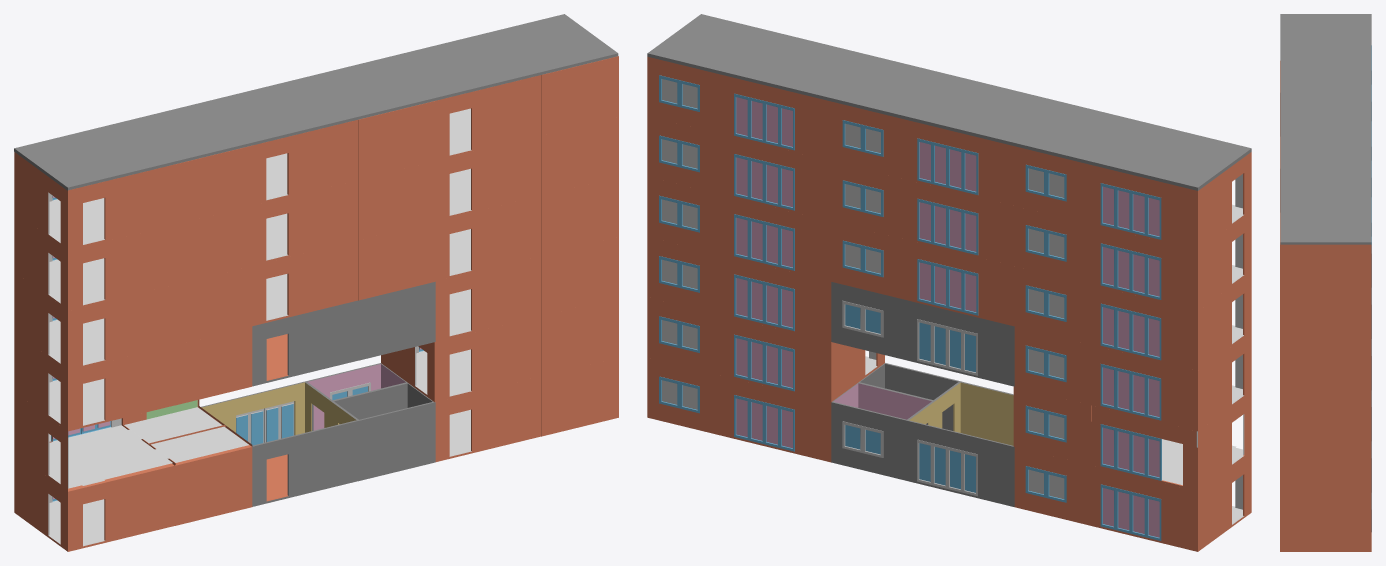
The model's file is ApartmentBuilding_Our.fbx.
3 views of the same model, side by side, from view 1: azimuth 30°, elevation 25°; view 2: azimuth 150°, elevation 25°; view 3: azimuth 270°, elevation 25° (orthographic). The views are drawn at different scales.
Visible parts, largest first — view 1: ReunitedFlat_3.001; view 2: ReunitedFlat_3.001; view 3: ReunitedFlat_3.001.
Part boxes in pixels (x1,y1,x2,y2): ReunitedFlat_3.001: [14, 14, 618, 551]; ReunitedFlat_3.001: [647, 14, 1251, 551]; ReunitedFlat_3.001: [1280, 14, 1371, 551].
Size of the model in its own units: 3444 by 2177 by 586.
